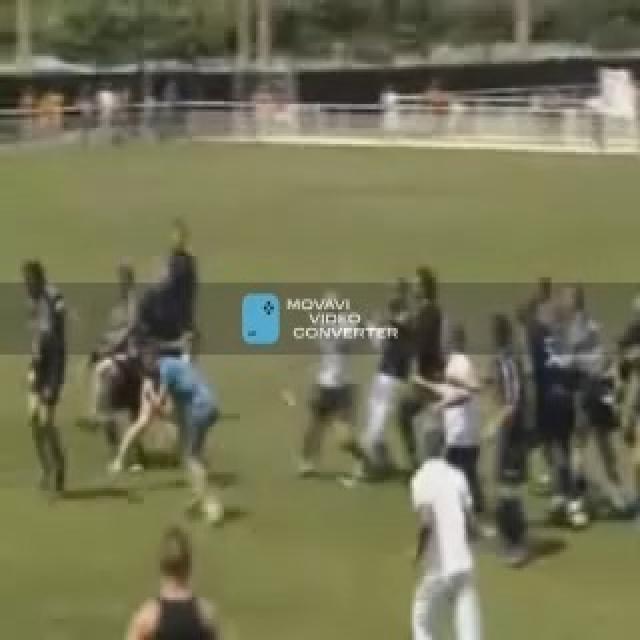non-voilence: (0, 222, 638, 638), (288, 264, 638, 568), (406, 419, 488, 637), (18, 256, 70, 493), (122, 523, 222, 637)
